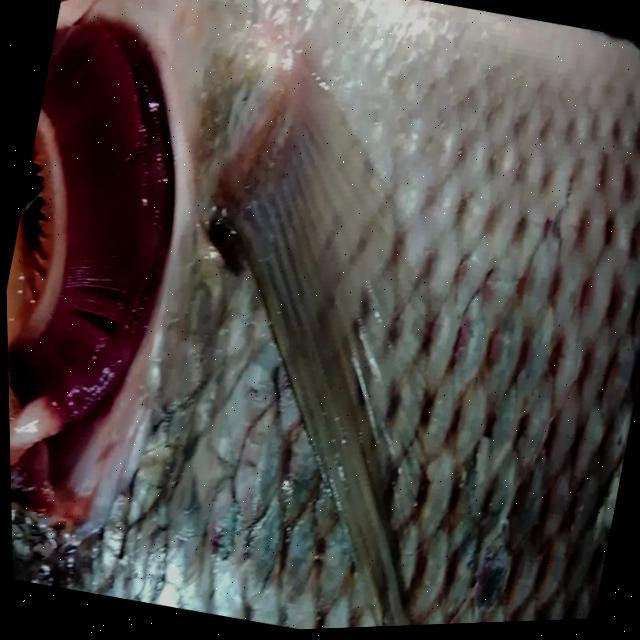Fresh: (0, 0, 255, 476)
